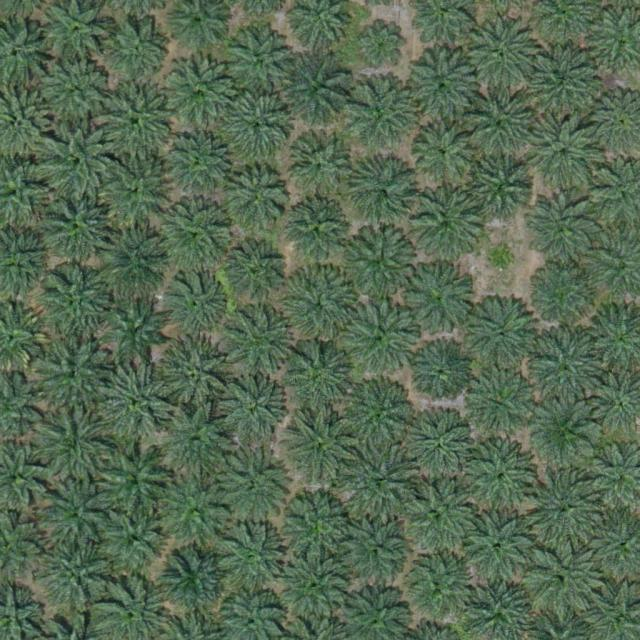Healthy: (164, 56, 242, 135), (343, 76, 421, 155), (406, 49, 484, 128), (462, 15, 540, 94), (529, 332, 607, 411), (462, 88, 540, 167), (341, 378, 419, 457), (283, 265, 361, 344), (282, 341, 360, 420), (282, 411, 360, 490), (161, 125, 239, 204), (154, 336, 232, 415), (159, 405, 237, 484), (94, 364, 172, 443), (96, 221, 174, 300), (94, 154, 172, 233), (98, 86, 176, 165), (39, 122, 117, 201), (36, 187, 114, 266), (36, 261, 114, 340), (35, 336, 113, 415), (29, 408, 107, 487), (39, 476, 117, 555), (38, 534, 116, 613), (95, 437, 173, 516), (98, 499, 176, 578), (153, 472, 231, 551), (211, 523, 289, 602), (213, 446, 291, 525), (280, 548, 358, 627), (393, 479, 471, 558), (524, 470, 602, 549), (522, 542, 600, 621), (275, 55, 353, 133), (339, 298, 417, 376), (341, 225, 419, 303), (220, 88, 298, 166), (280, 489, 358, 567), (396, 549, 474, 627), (220, 167, 291, 238), (528, 55, 598, 126), (531, 118, 601, 189), (529, 196, 599, 267), (530, 399, 600, 470), (464, 370, 534, 441), (465, 297, 536, 367), (347, 159, 417, 230), (286, 131, 356, 202), (226, 307, 296, 378), (161, 204, 231, 275), (465, 444, 535, 515), (44, 57, 114, 127), (467, 158, 537, 228), (406, 260, 476, 330), (412, 414, 482, 484), (216, 374, 286, 444), (162, 547, 232, 617), (340, 517, 410, 587), (348, 445, 418, 515), (462, 513, 532, 583), (104, 19, 167, 82), (532, 263, 595, 326), (285, 200, 348, 263), (225, 241, 288, 304), (229, 28, 291, 91), (412, 121, 474, 184), (416, 194, 478, 257), (412, 343, 474, 406), (166, 273, 228, 336), (105, 298, 167, 360)
Small: (361, 20, 408, 67), (486, 245, 517, 276)
